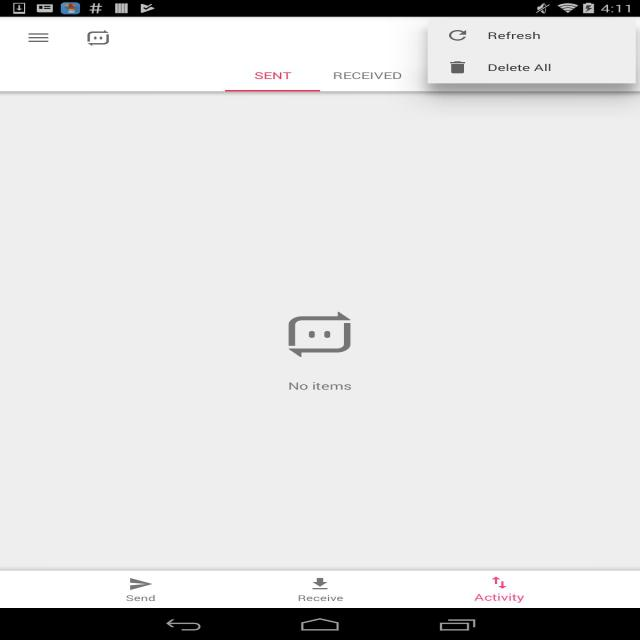button: (429, 19, 637, 51), (430, 52, 636, 82), (276, 571, 360, 607), (463, 569, 536, 607), (229, 62, 316, 92), (323, 61, 412, 90), (106, 571, 176, 607), (22, 27, 56, 50), (84, 26, 115, 49)
